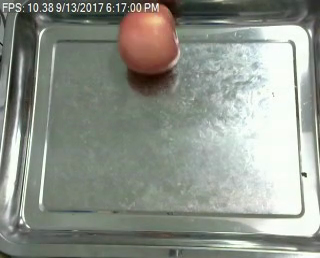Apple: (115, 0, 181, 74)
